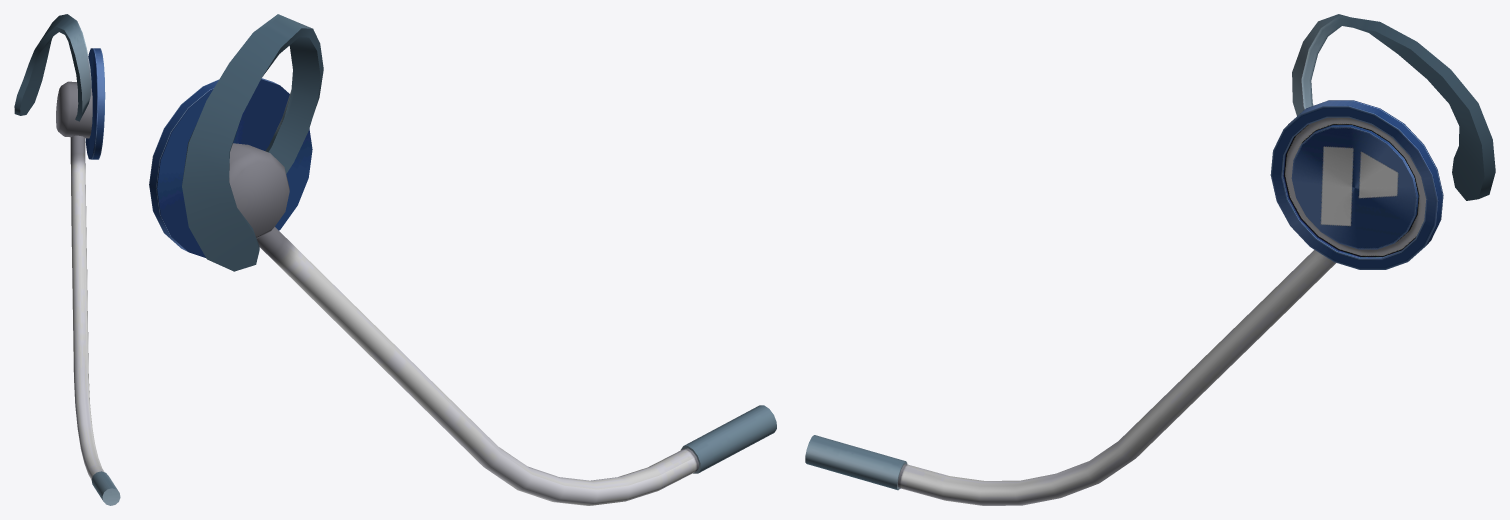
File: EntrainingIntercomAkiomi.fbx
The picture shows the model from 3 angles, left to right: view 1: azimuth 30°, elevation 25°; view 2: azimuth 150°, elevation 25°; view 3: azimuth 270°, elevation 25°; orthographic projection. The views are drawn at different scales.
Parts seen in each view (by area): view 1: EntrainingIntercomAkiomi; view 2: EntrainingIntercomAkiomi; view 3: EntrainingIntercomAkiomi.
Boxes of the visible parts, x1,y1,x2,y2 form: EntrainingIntercomAkiomi: (14,14,120,505); EntrainingIntercomAkiomi: (149,14,776,505); EntrainingIntercomAkiomi: (805,14,1495,505).
Bounding box in the file's own units: 0.0412 × 0.0749 × 0.0829.
1 material, 1 textured.
